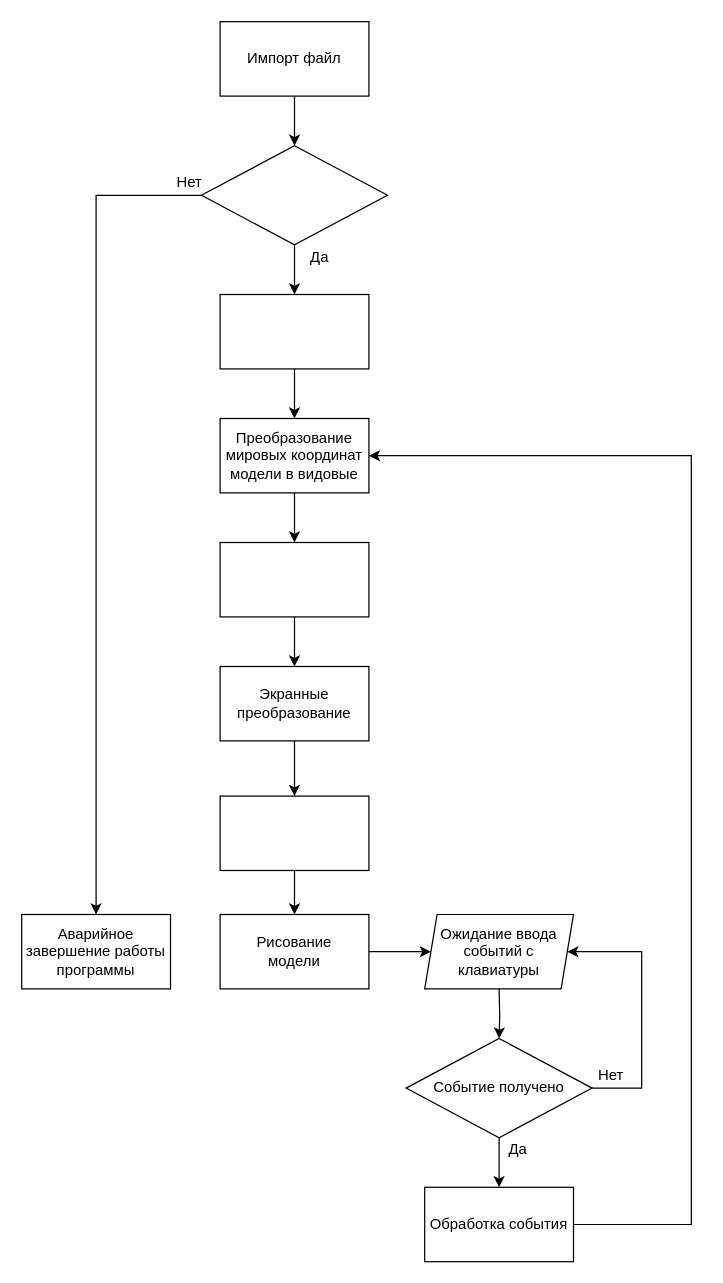
This 723x1283 diagram has some shape labels left out. The box of each missing label's shape, as (x1, y1, x2, y2) in pixels:
Выделение памяти под структуры данных модели: (219, 293, 369, 369)
Импорт успешен: (200, 144, 388, 245)
Перспективное преобразование видовых координат: (219, 541, 369, 617)
Рисование змели и осей координат: (219, 795, 369, 870)
